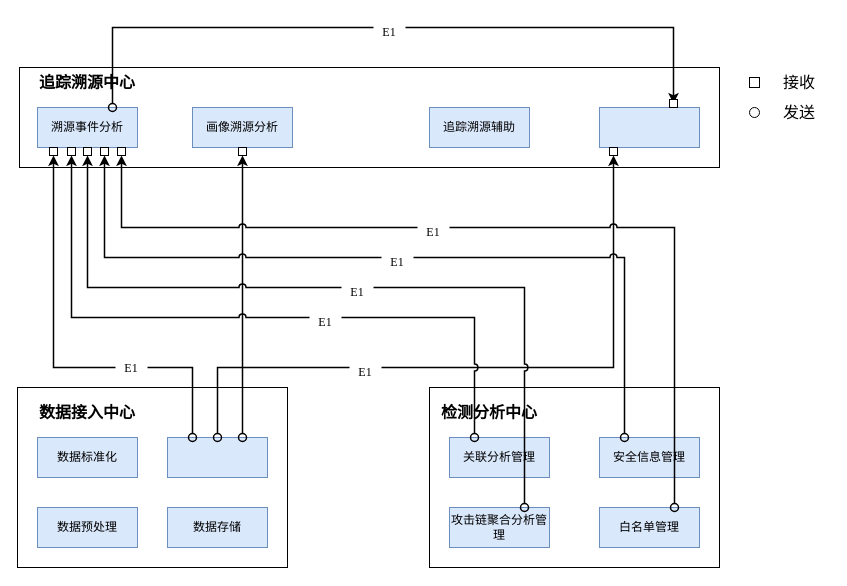
Some shapes in this 847 by 586 pixel diagram are drawn without their labels. Here are the shapes that lost their labels. From the top down, the centre of each, then its label:
At point 649,127: "系统监控管理".
At point 217,457: "数据采集".
